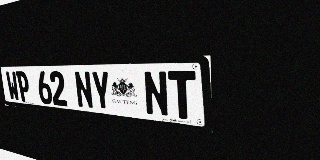2: (49, 71, 67, 106)
6: (36, 71, 53, 105)
N: (143, 71, 169, 117), (73, 71, 94, 109)
P: (15, 71, 31, 102)
T: (168, 71, 197, 120)
W: (5, 71, 20, 101)
Y: (90, 71, 112, 111)
